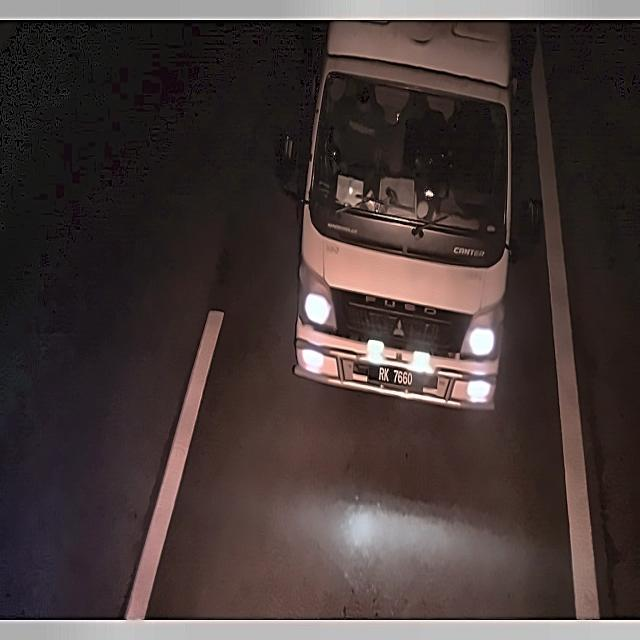car: (364, 358, 426, 398)
